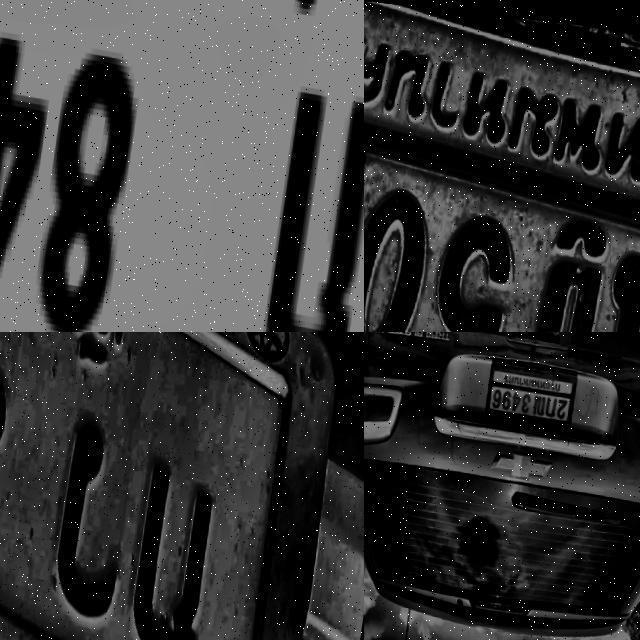license-plate: (0, 0, 364, 332), (0, 332, 364, 640), (364, 0, 640, 332), (485, 346, 584, 428)
